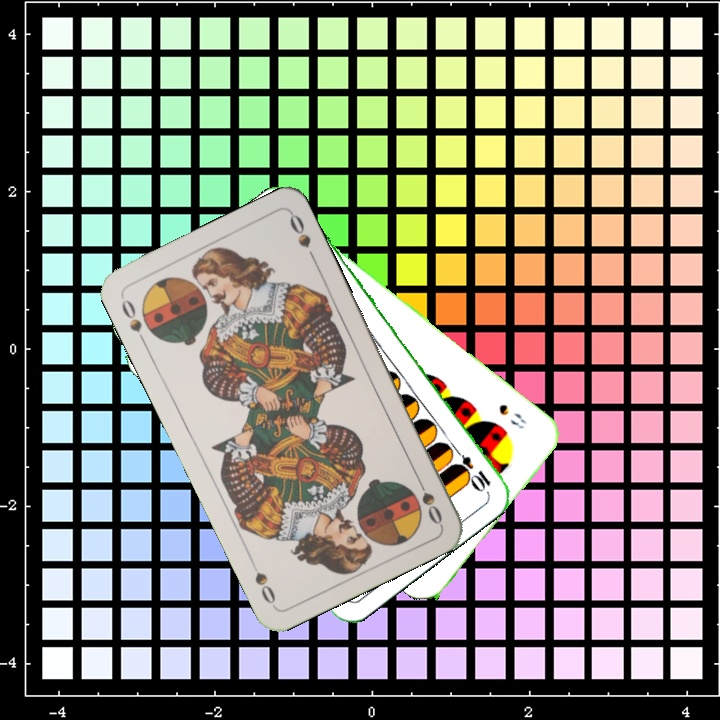E10: (447, 442, 494, 494)
S8: (495, 400, 529, 432)
SO: (411, 471, 445, 528), (116, 292, 149, 348)
